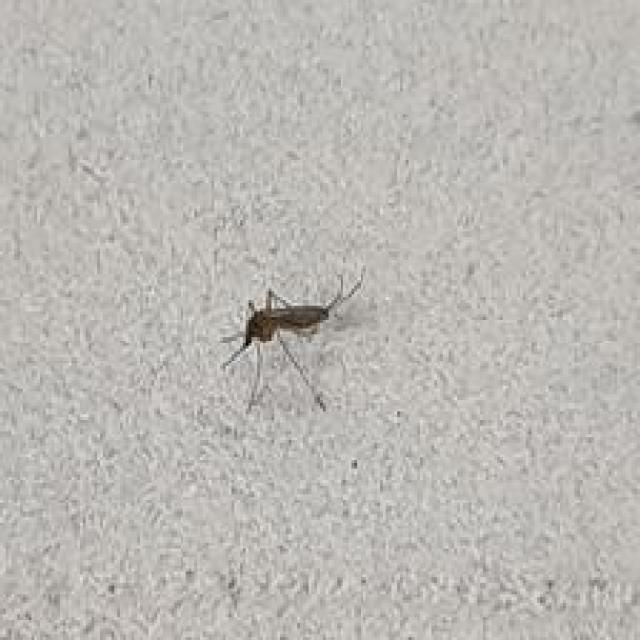Culex: (219, 266, 367, 414)
